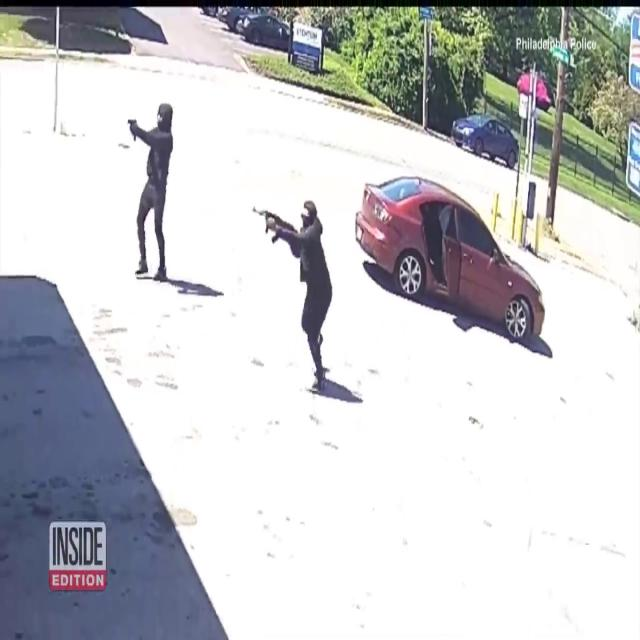penembakan: (251, 186, 337, 396), (123, 97, 183, 296)
